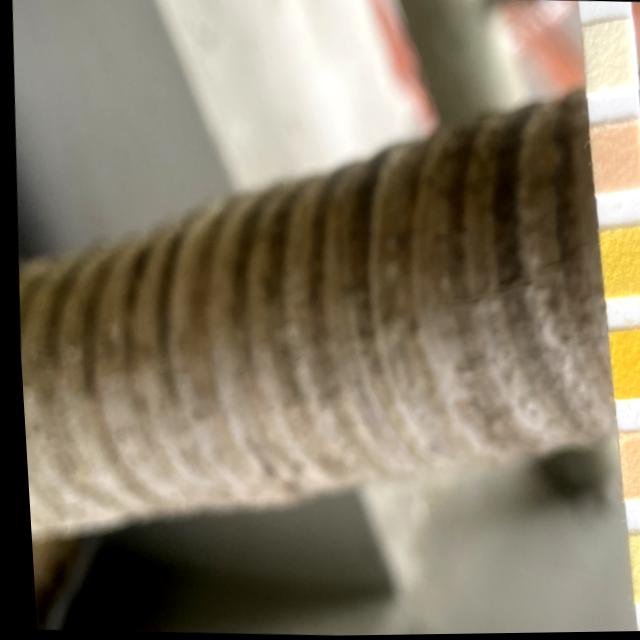Bilirubin: (581, 29, 631, 87)
Blood: (605, 334, 640, 398)
Ketone: (588, 132, 639, 191)
Protein: (623, 541, 640, 602)
SpGravity: (596, 234, 640, 295)
pH: (614, 437, 640, 498)
